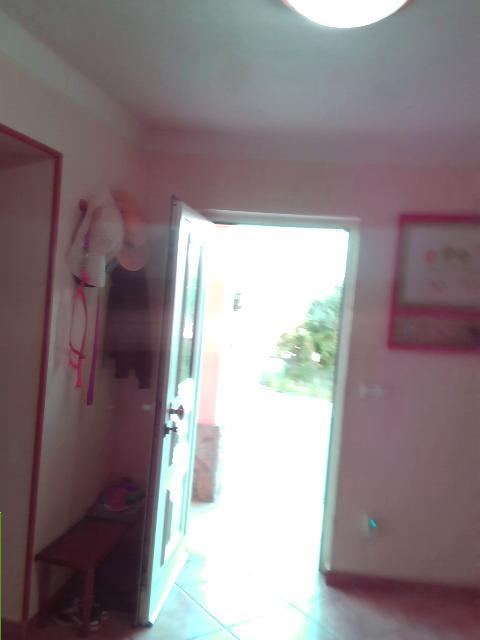open_door: (167, 207, 360, 576)
